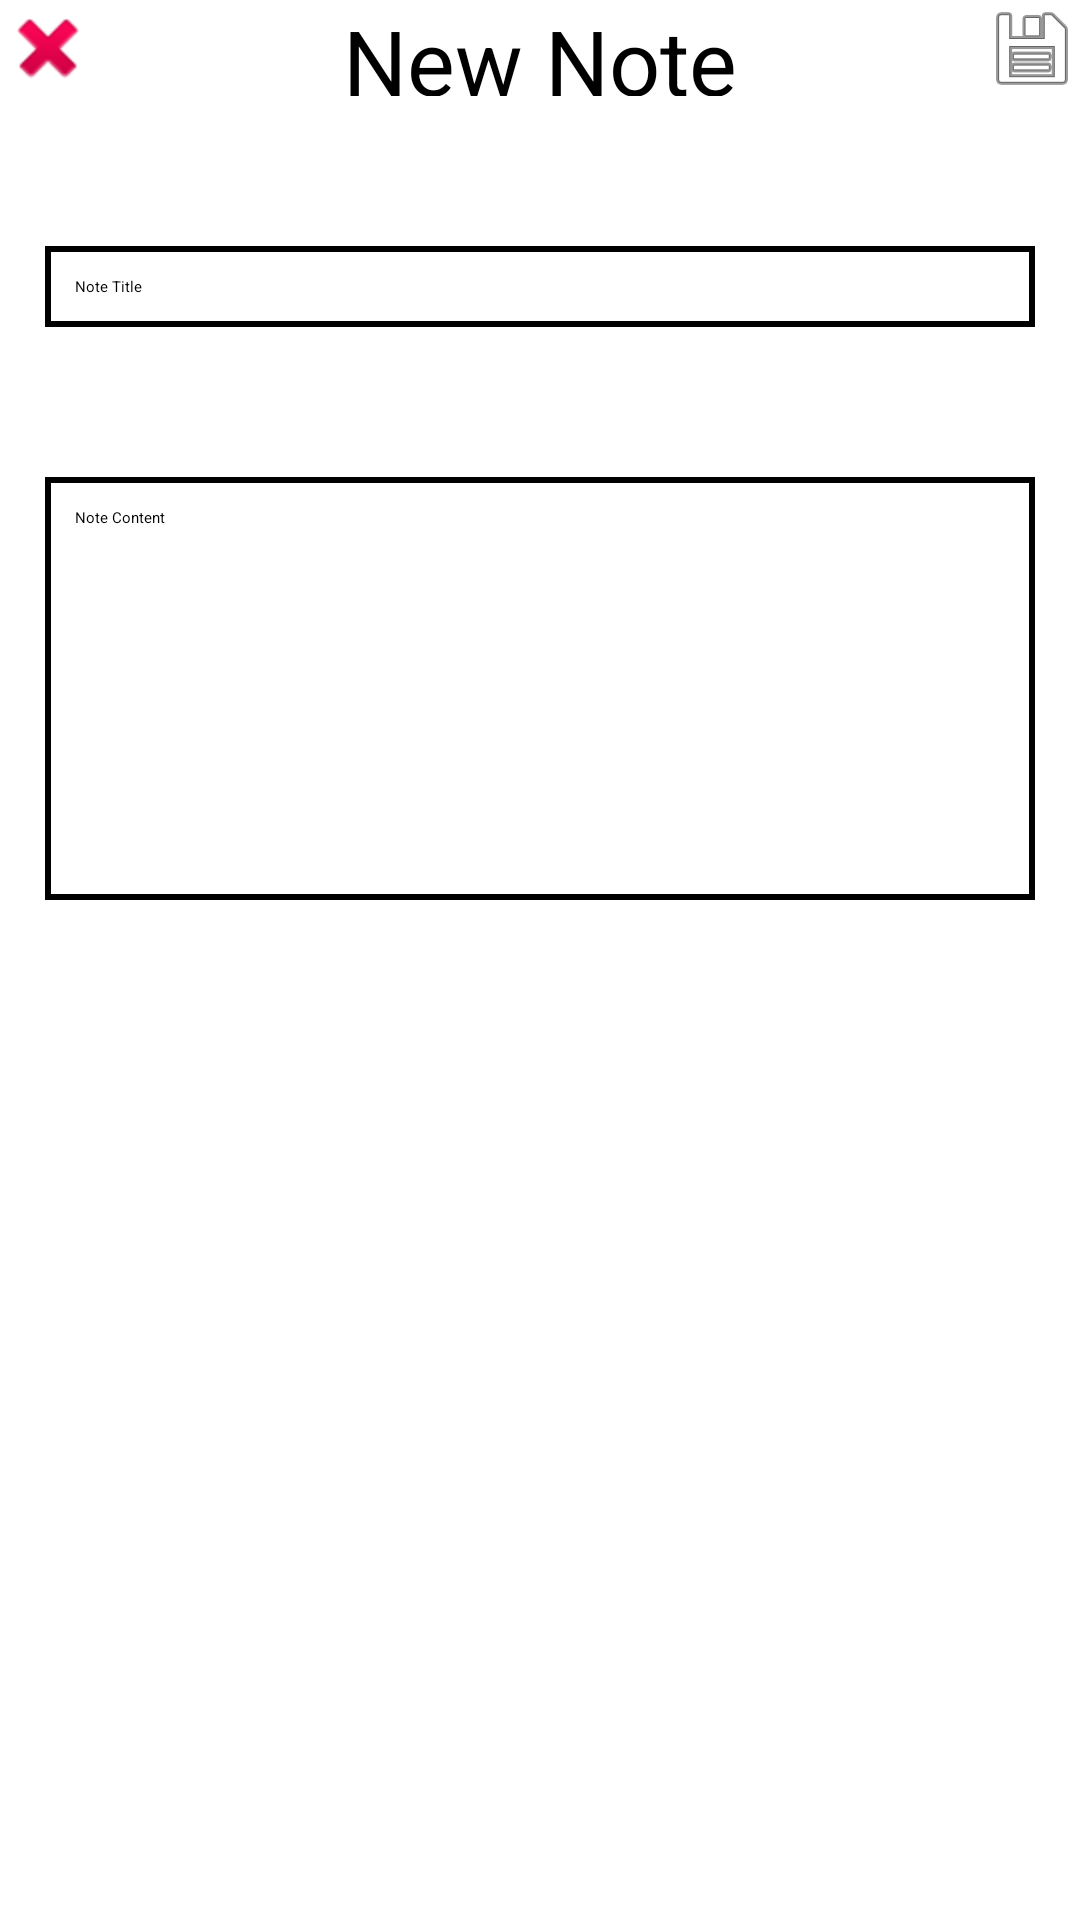

Screen size 1080 × 1920. Icon name, then its box in pixels as box(x1, y1, x2, y2):
delete: box(17, 19, 79, 78)
save: box(996, 12, 1068, 85)
